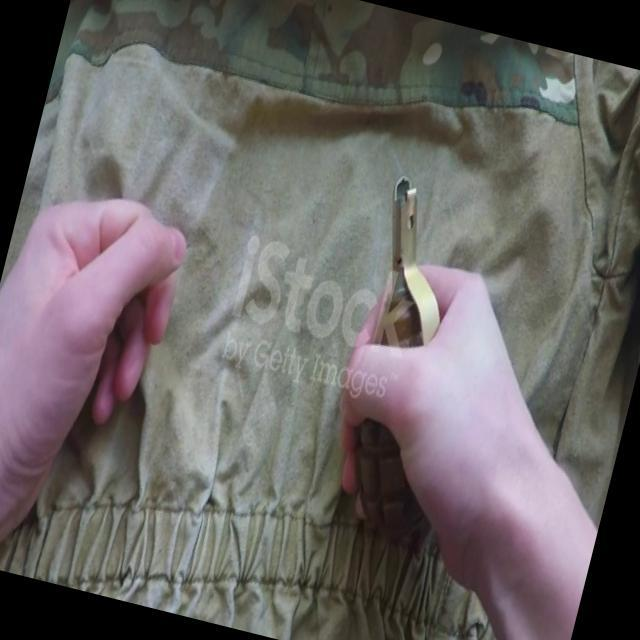grenade: (307, 172, 503, 547)
